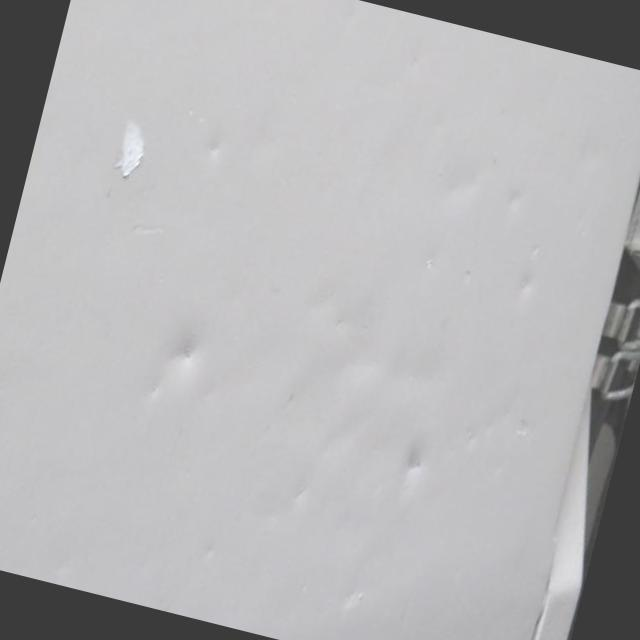dent: (265, 332, 389, 468), (136, 309, 216, 416), (461, 376, 544, 458), (377, 337, 462, 412), (424, 138, 496, 218), (389, 432, 442, 500), (301, 292, 358, 336), (274, 474, 318, 524), (332, 574, 370, 622), (124, 213, 174, 249), (504, 266, 542, 306), (500, 182, 526, 215), (198, 136, 225, 166), (526, 240, 546, 267), (197, 537, 217, 564)
